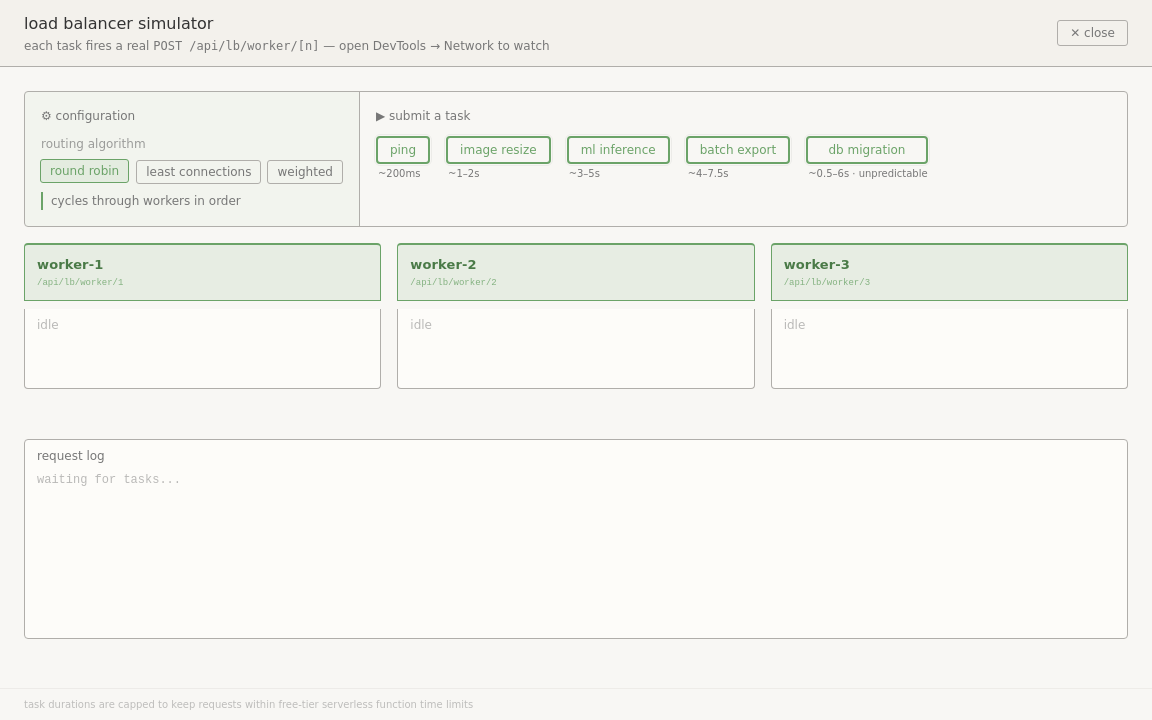
Test case: LoadBalancerOverlay › clearing the log empties the request log panel
The image size is (1152, 720).
Click the button "ping" at (403, 150), box [376,136,430,164]
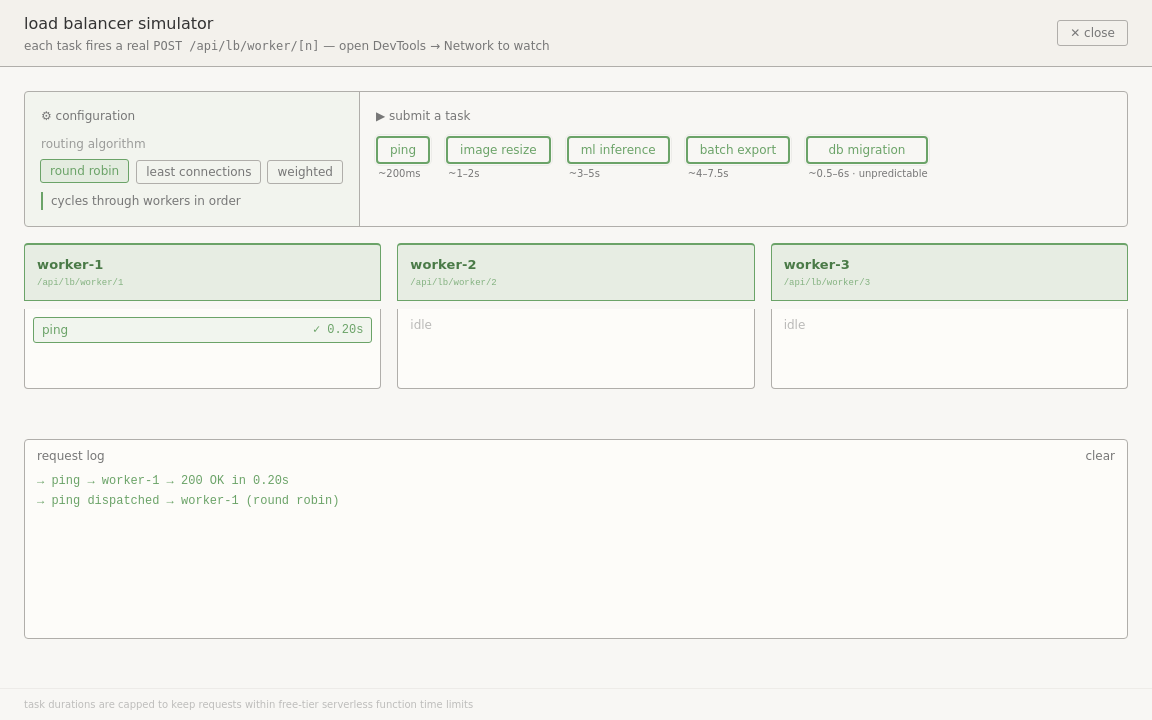
Expected: the text "→ ping dispatched → worker-1 (round robin)" is shown, [37,494,340,508]
Click the button "clear" at (1100, 456), box [1085,448,1115,464]
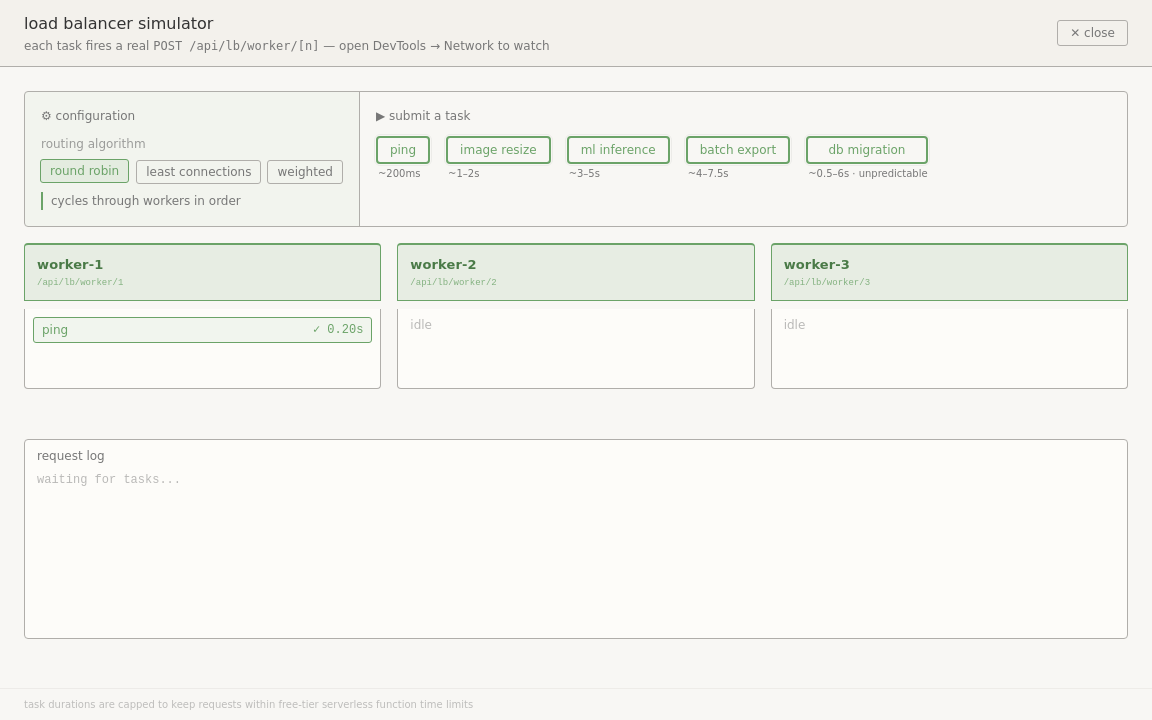
Expected: the text "ping dispatched" is gone
Expected: the text "waiting for tasks..." is shown, [37,473,181,487]
